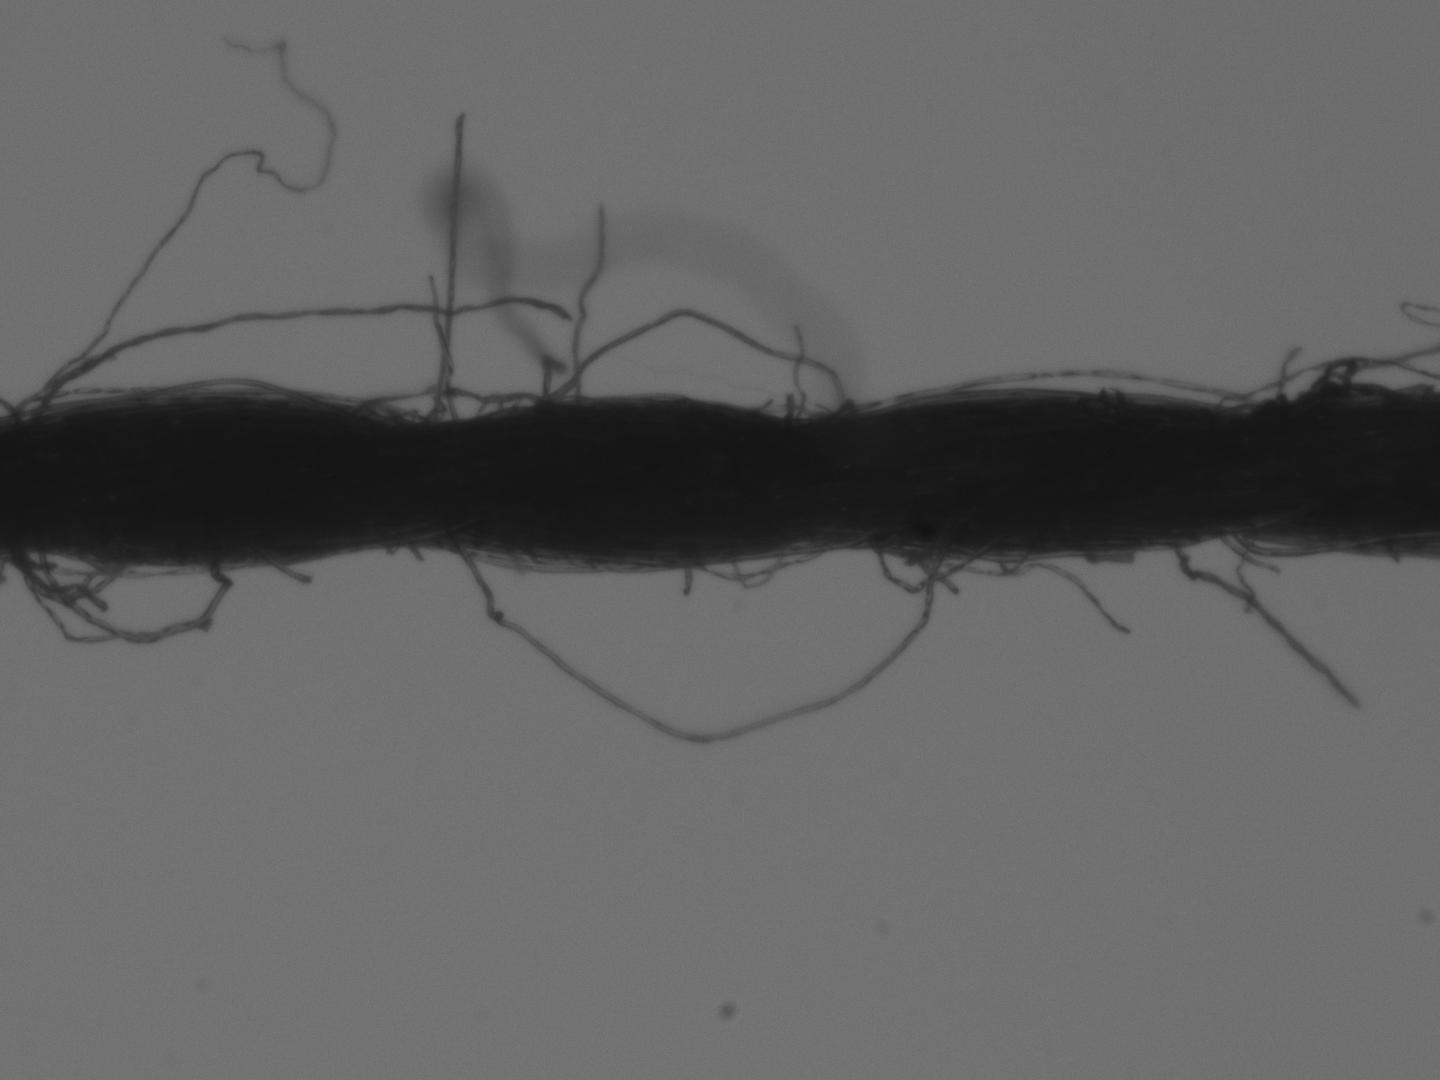loop_fiber: (448, 525, 960, 752), (528, 304, 857, 430), (3, 541, 240, 642), (914, 362, 1245, 405), (340, 378, 540, 429), (872, 534, 1003, 598), (1295, 352, 1369, 414), (696, 551, 820, 580), (1228, 534, 1356, 562)
protruding_fiber: (426, 107, 471, 431), (261, 546, 316, 589)
